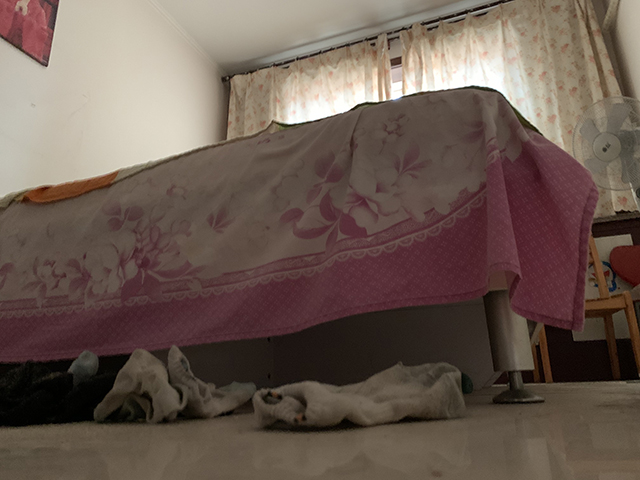bed: (1, 85, 602, 407)
socks: (253, 354, 460, 441), (89, 340, 257, 431)
